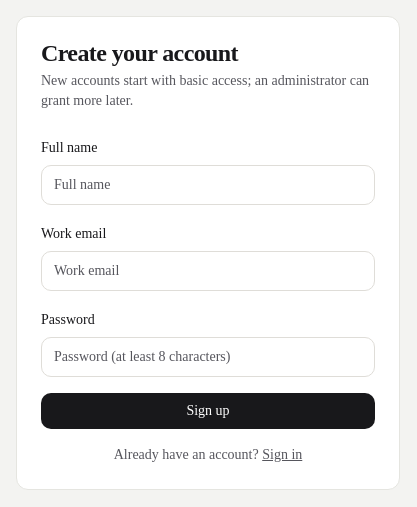
it: explains uncertain signup without automatic retry
Type "Fixture" into the field with placeholder "Full name" at (208, 185), box [41, 165, 375, 205]
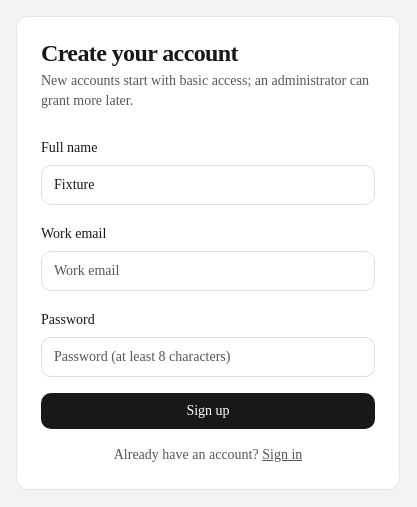
Type "fixture@example.invalid" into the field with placeholder "Work email" at (208, 271), box [41, 251, 375, 291]
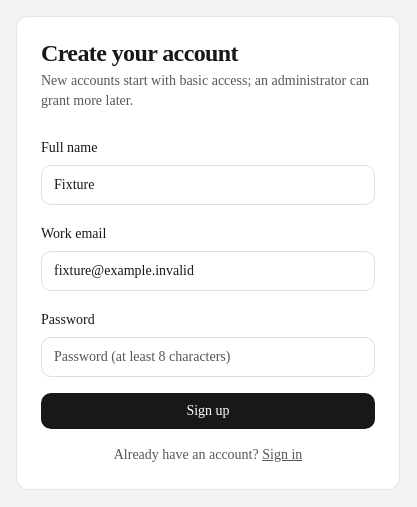
Type "fixture-password" into the password field with placeholder "Password (at least 8 characters)" at (208, 357), box [41, 337, 375, 377]
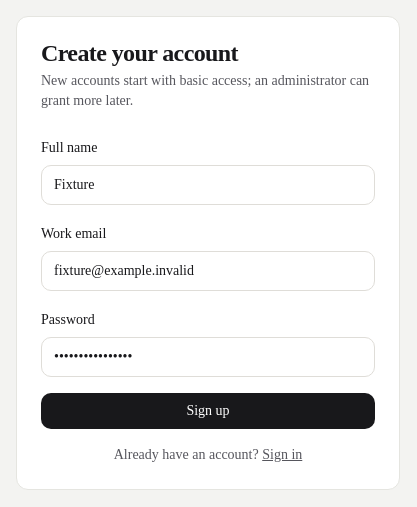
Submit the form "Sign up", box [41, 135, 375, 429]
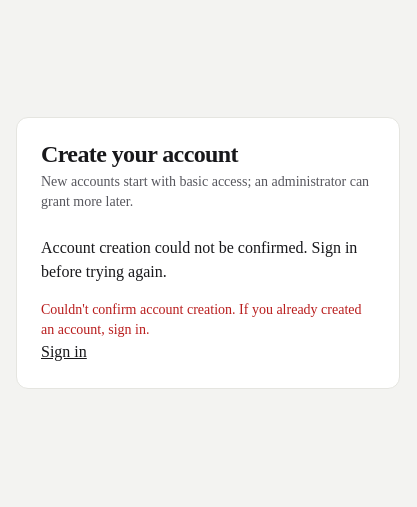
expect the message "Couldn't confirm account creation. If you already created an account, sign in." is shown: met, box [41, 300, 375, 340]
